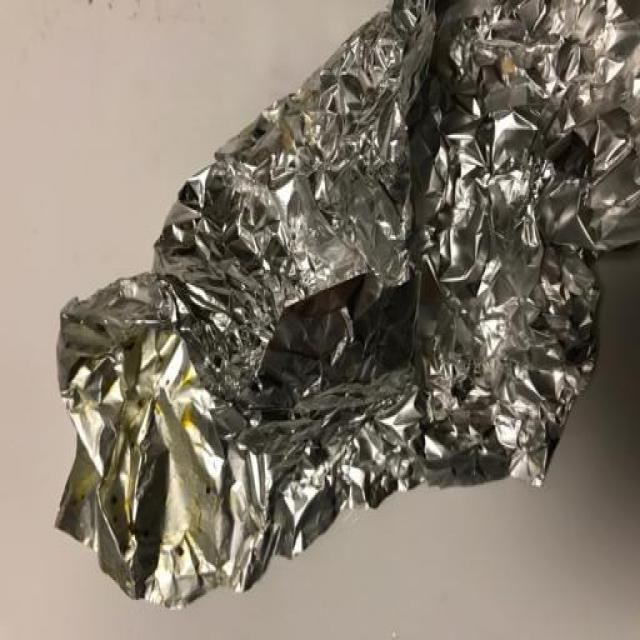others: (35, 1, 640, 616)
